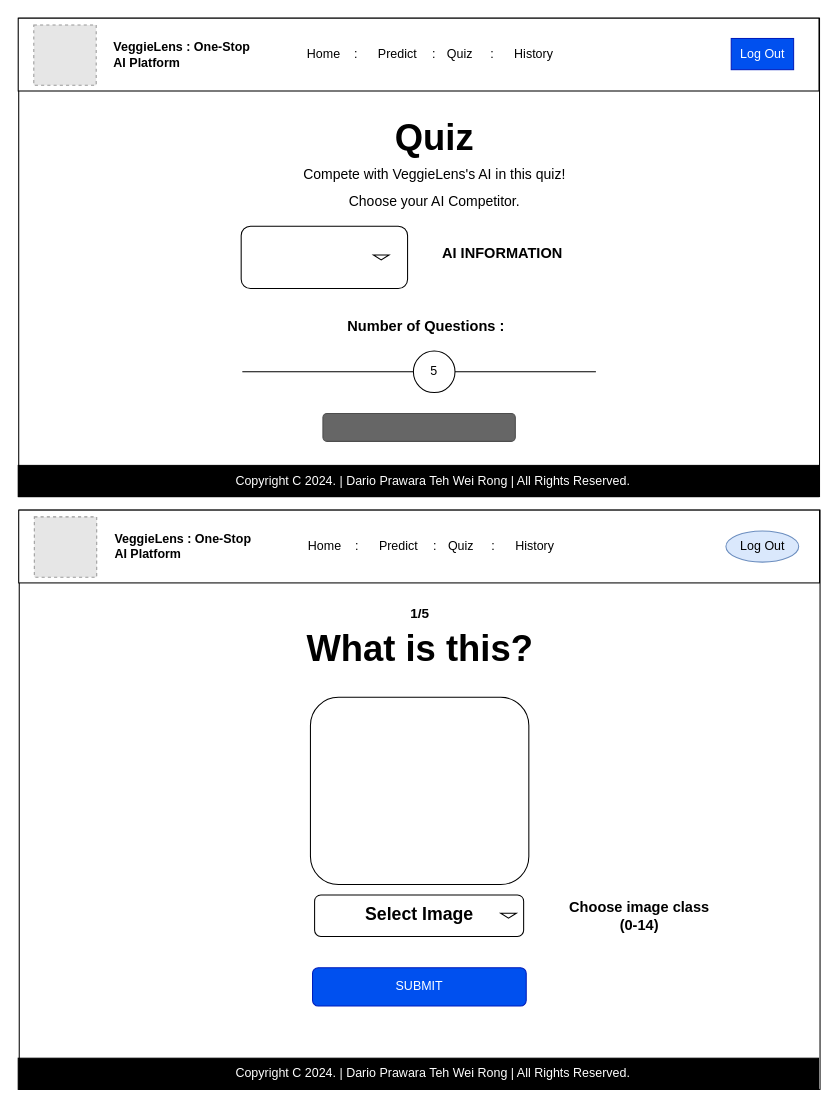
The diagram is 838 pixels wide and 1108 high, and some of its shapes have lost their labels. Grey dashed boxes stand in for pictures. The box of each missing label's shape, as (x1, y1, x2, y2) in pixels:
Colored Image of Vegetable: (309, 696, 529, 885)
Select AI: (240, 225, 408, 289)
START QUIZ: (322, 412, 515, 441)
